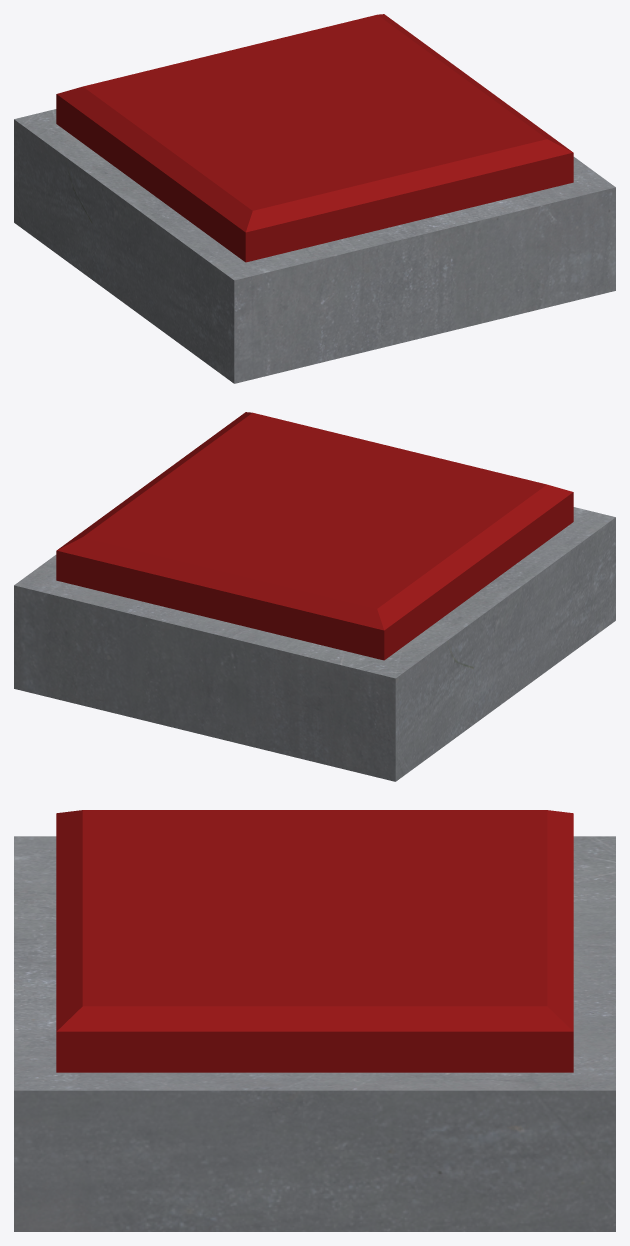
The model's file is Puzzle_Button_Asset.fbx.
3 views of the same model, one above another, from view 1: azimuth 30°, elevation 25°; view 2: azimuth 150°, elevation 25°; view 3: azimuth 270°, elevation 25° (orthographic). The views are drawn at different scales.
Parts seen in each view (by area): view 1: button, Box001; view 2: button, Box001; view 3: button, Box001.
Part boxes in pixels (x1,y1,x2,y2): button: [56, 14, 573, 262]; Box001: [14, 109, 615, 383]; button: [56, 412, 573, 660]; Box001: [14, 507, 615, 781]; button: [56, 810, 573, 1072]; Box001: [14, 836, 615, 1231].
Size of the model in its own units: 35.38 by 12.75 by 35.38.
2 materials, 1 textured.
